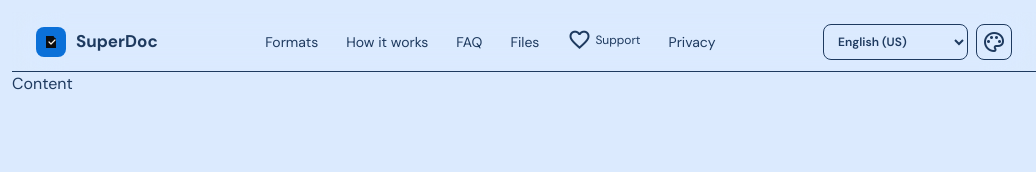
Test: AppShell › persists locale changes from the header selector
Select "Português (Brasil)" in the dropdown named "Change language" at (896, 42), box [823, 24, 968, 60]
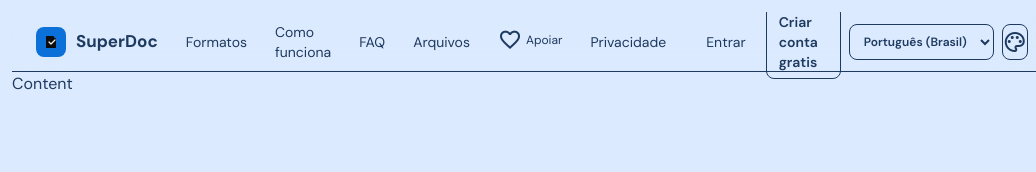
expect the link "Formatos" is shown: met, box [186, 32, 247, 50]
